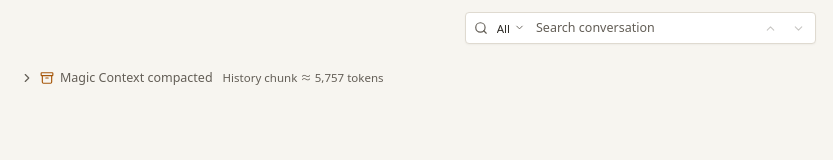
Test: response activity folds › labels Magic Context history-chunk estimates for source magic-context, including cached source-less snapshots
Expected: the text "History chunk ≈ 5,757 tokens" is shown, [223,70,384,87]
Click the button "Magic Context compacted" at (116, 78), box [16,64,217,92]
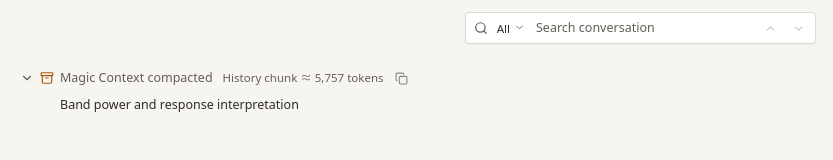
Expected: the element with class "context-checkpoint__body" does not show "Magic Context compacted:", [60,96,299,113]
Expected: the text "Band power and response interpretation" is shown, [60,96,299,113]
Expected: the button named "Copy compaction summary" is shown, [390,66,414,90]
